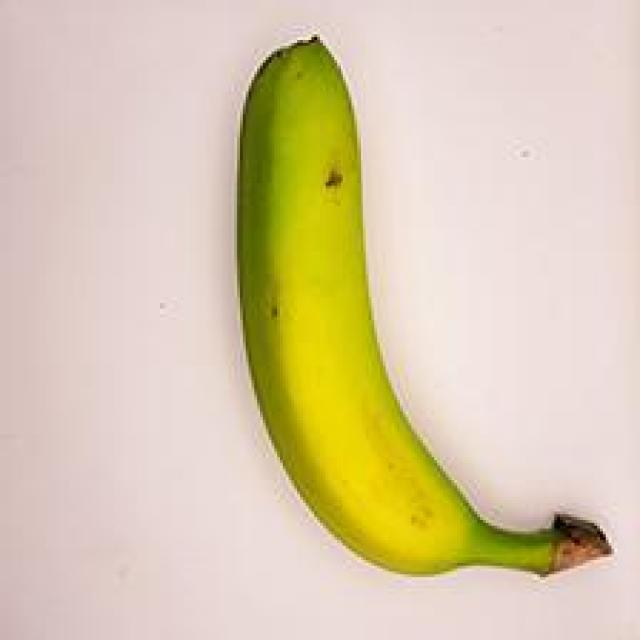unripe: (203, 34, 616, 588)
